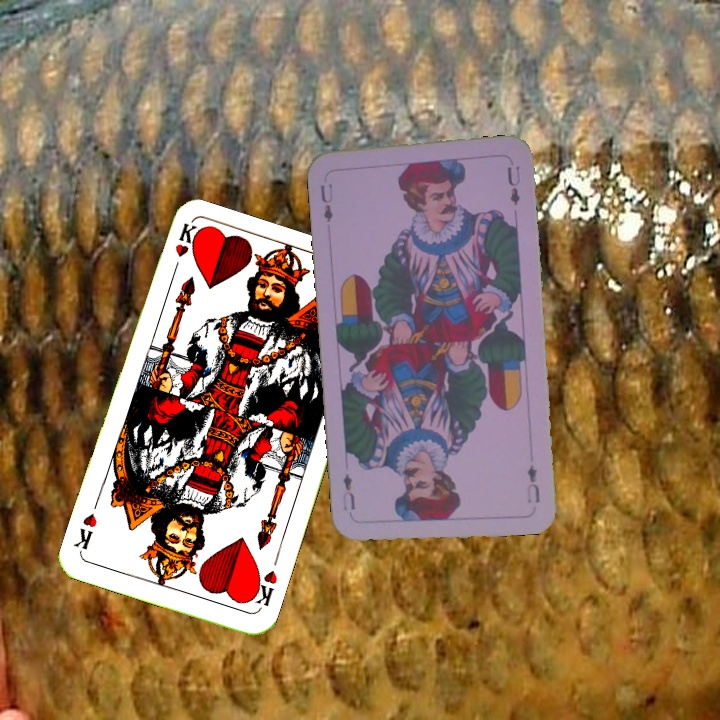EU: (316, 179, 336, 225), (523, 461, 543, 506)
HK: (168, 220, 199, 279), (246, 566, 280, 612)
